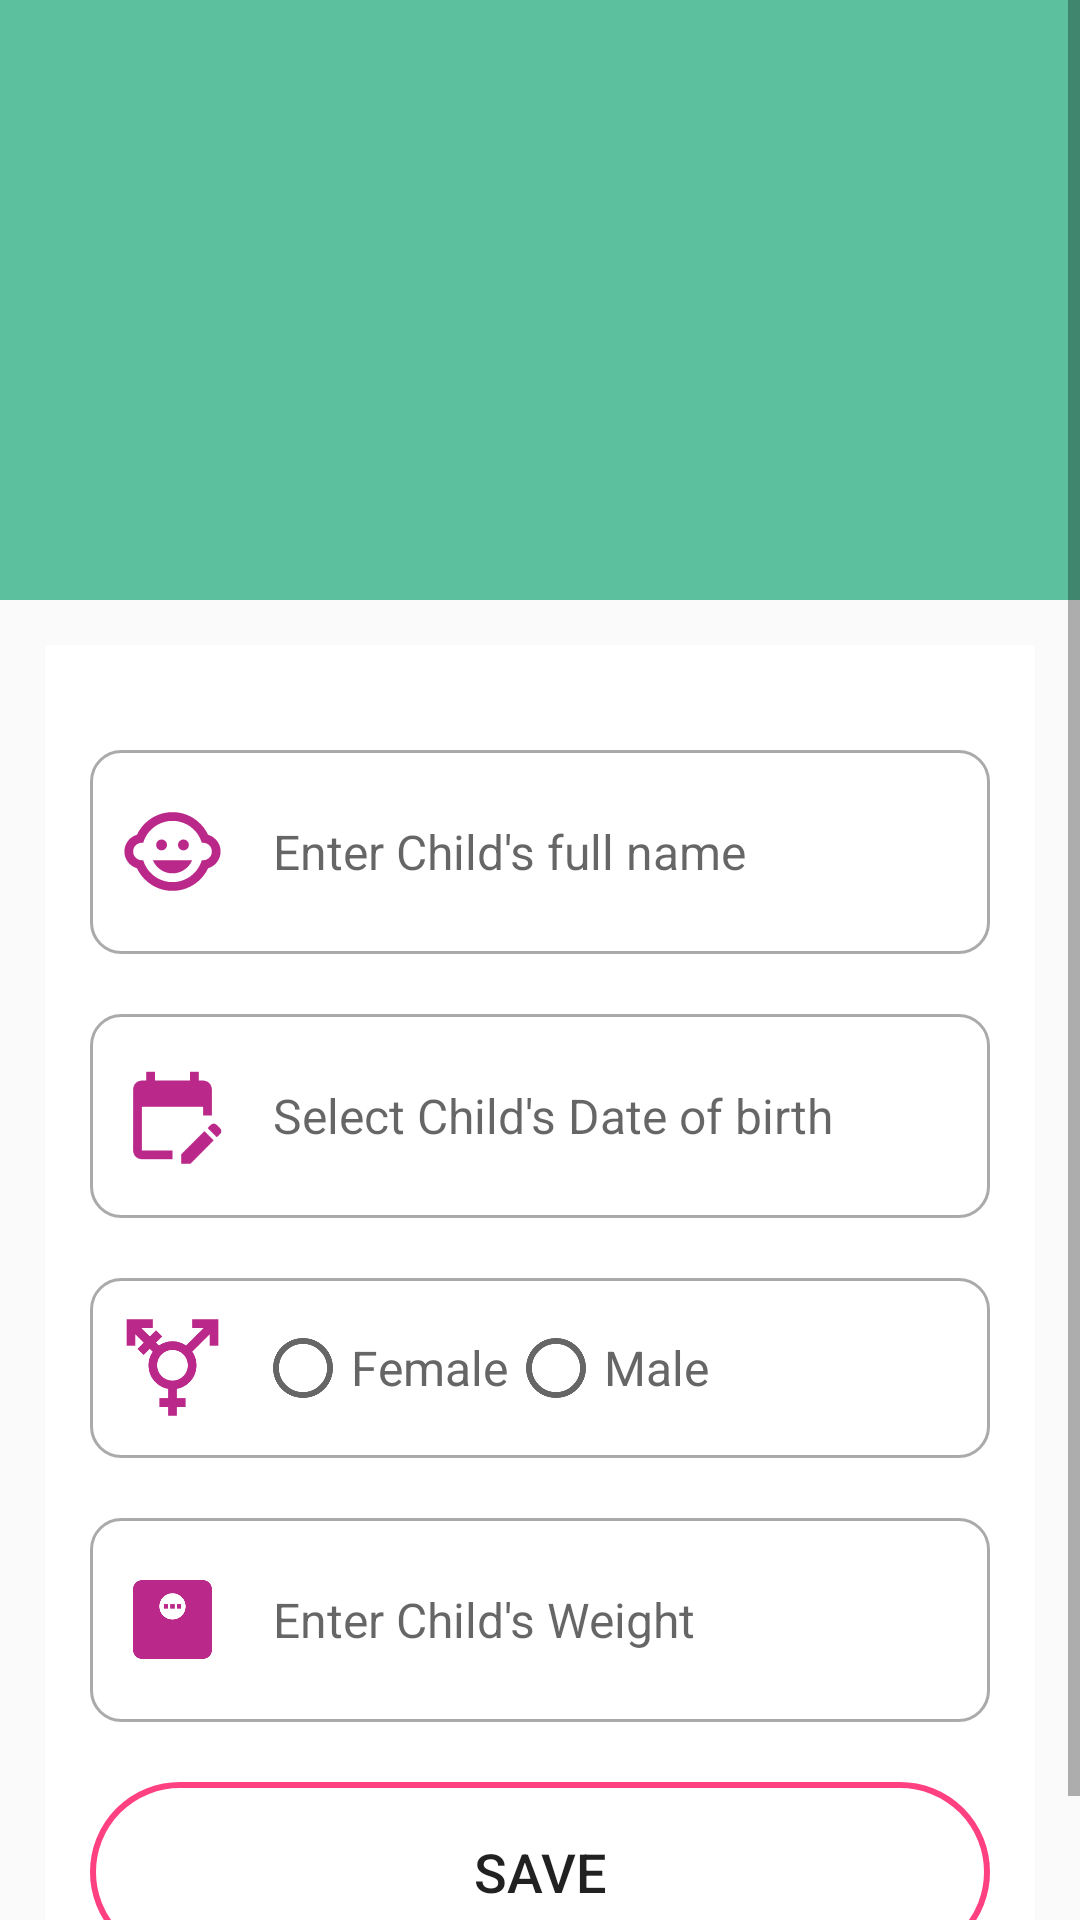

Icons on this 1080w x 1920h Android screen, each with the point to tap as point (x, y):
child care: point (172, 851)
edit calendar: point (177, 1117)
monitor weight: point (172, 1619)
transgender: point (172, 1367)
